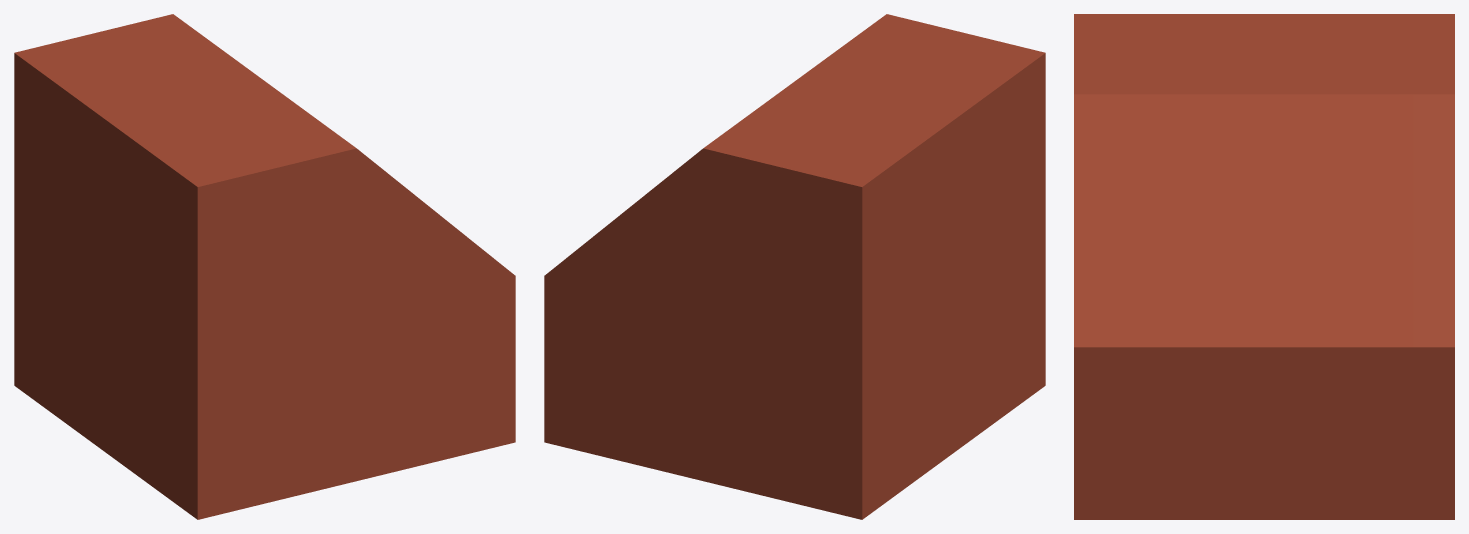
Rendered from r6c9_body_brown.gltf.
The picture shows the model from 3 angles, left to right: view 1: azimuth 30°, elevation 25°; view 2: azimuth 150°, elevation 25°; view 3: azimuth 270°, elevation 25°; orthographic projection. The views are drawn at different scales.
Visible parts, largest first — view 1: r6c9_body_brown; view 2: r6c9_body_brown; view 3: r6c9_body_brown.
Part boxes in pixels (x1,y1,x2,y2): r6c9_body_brown: (14,14,515,519); r6c9_body_brown: (544,14,1045,519); r6c9_body_brown: (1074,14,1454,519).
Size of what is drawn, in the model's own units: 2 by 2 by 2.
1 material, 1 textured.
